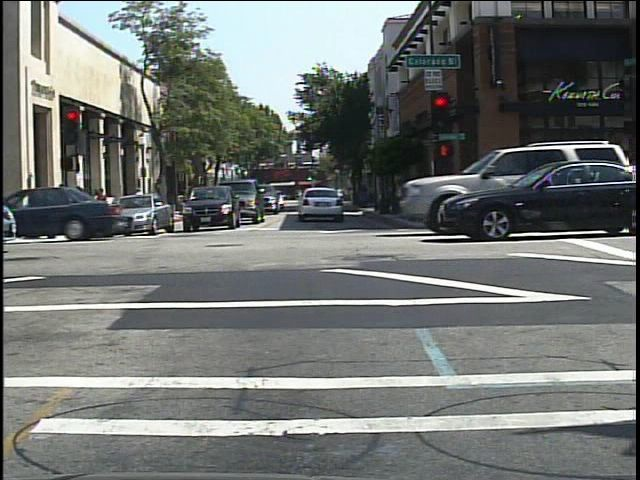person: (86, 187, 101, 229), (173, 183, 190, 219), (132, 183, 147, 215)
